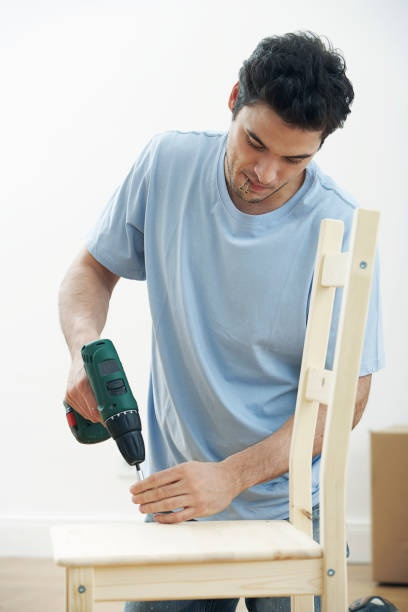driller: (64, 338, 148, 481)
person: (57, 23, 380, 523)
